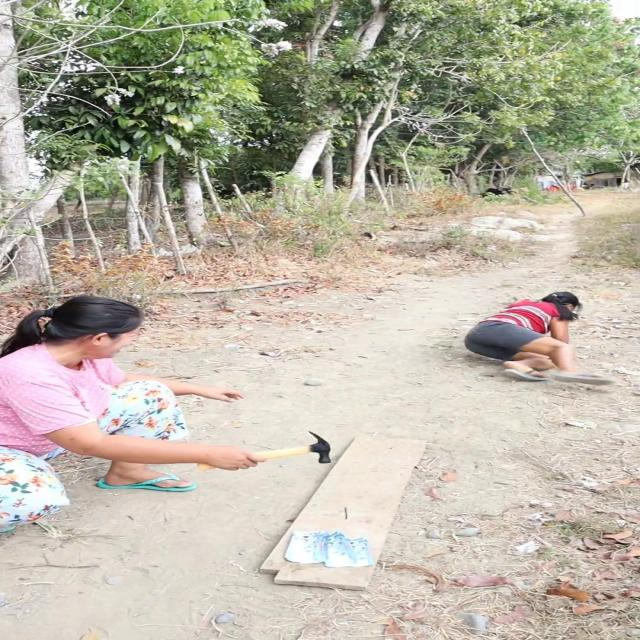hammer: (197, 431, 331, 471)
